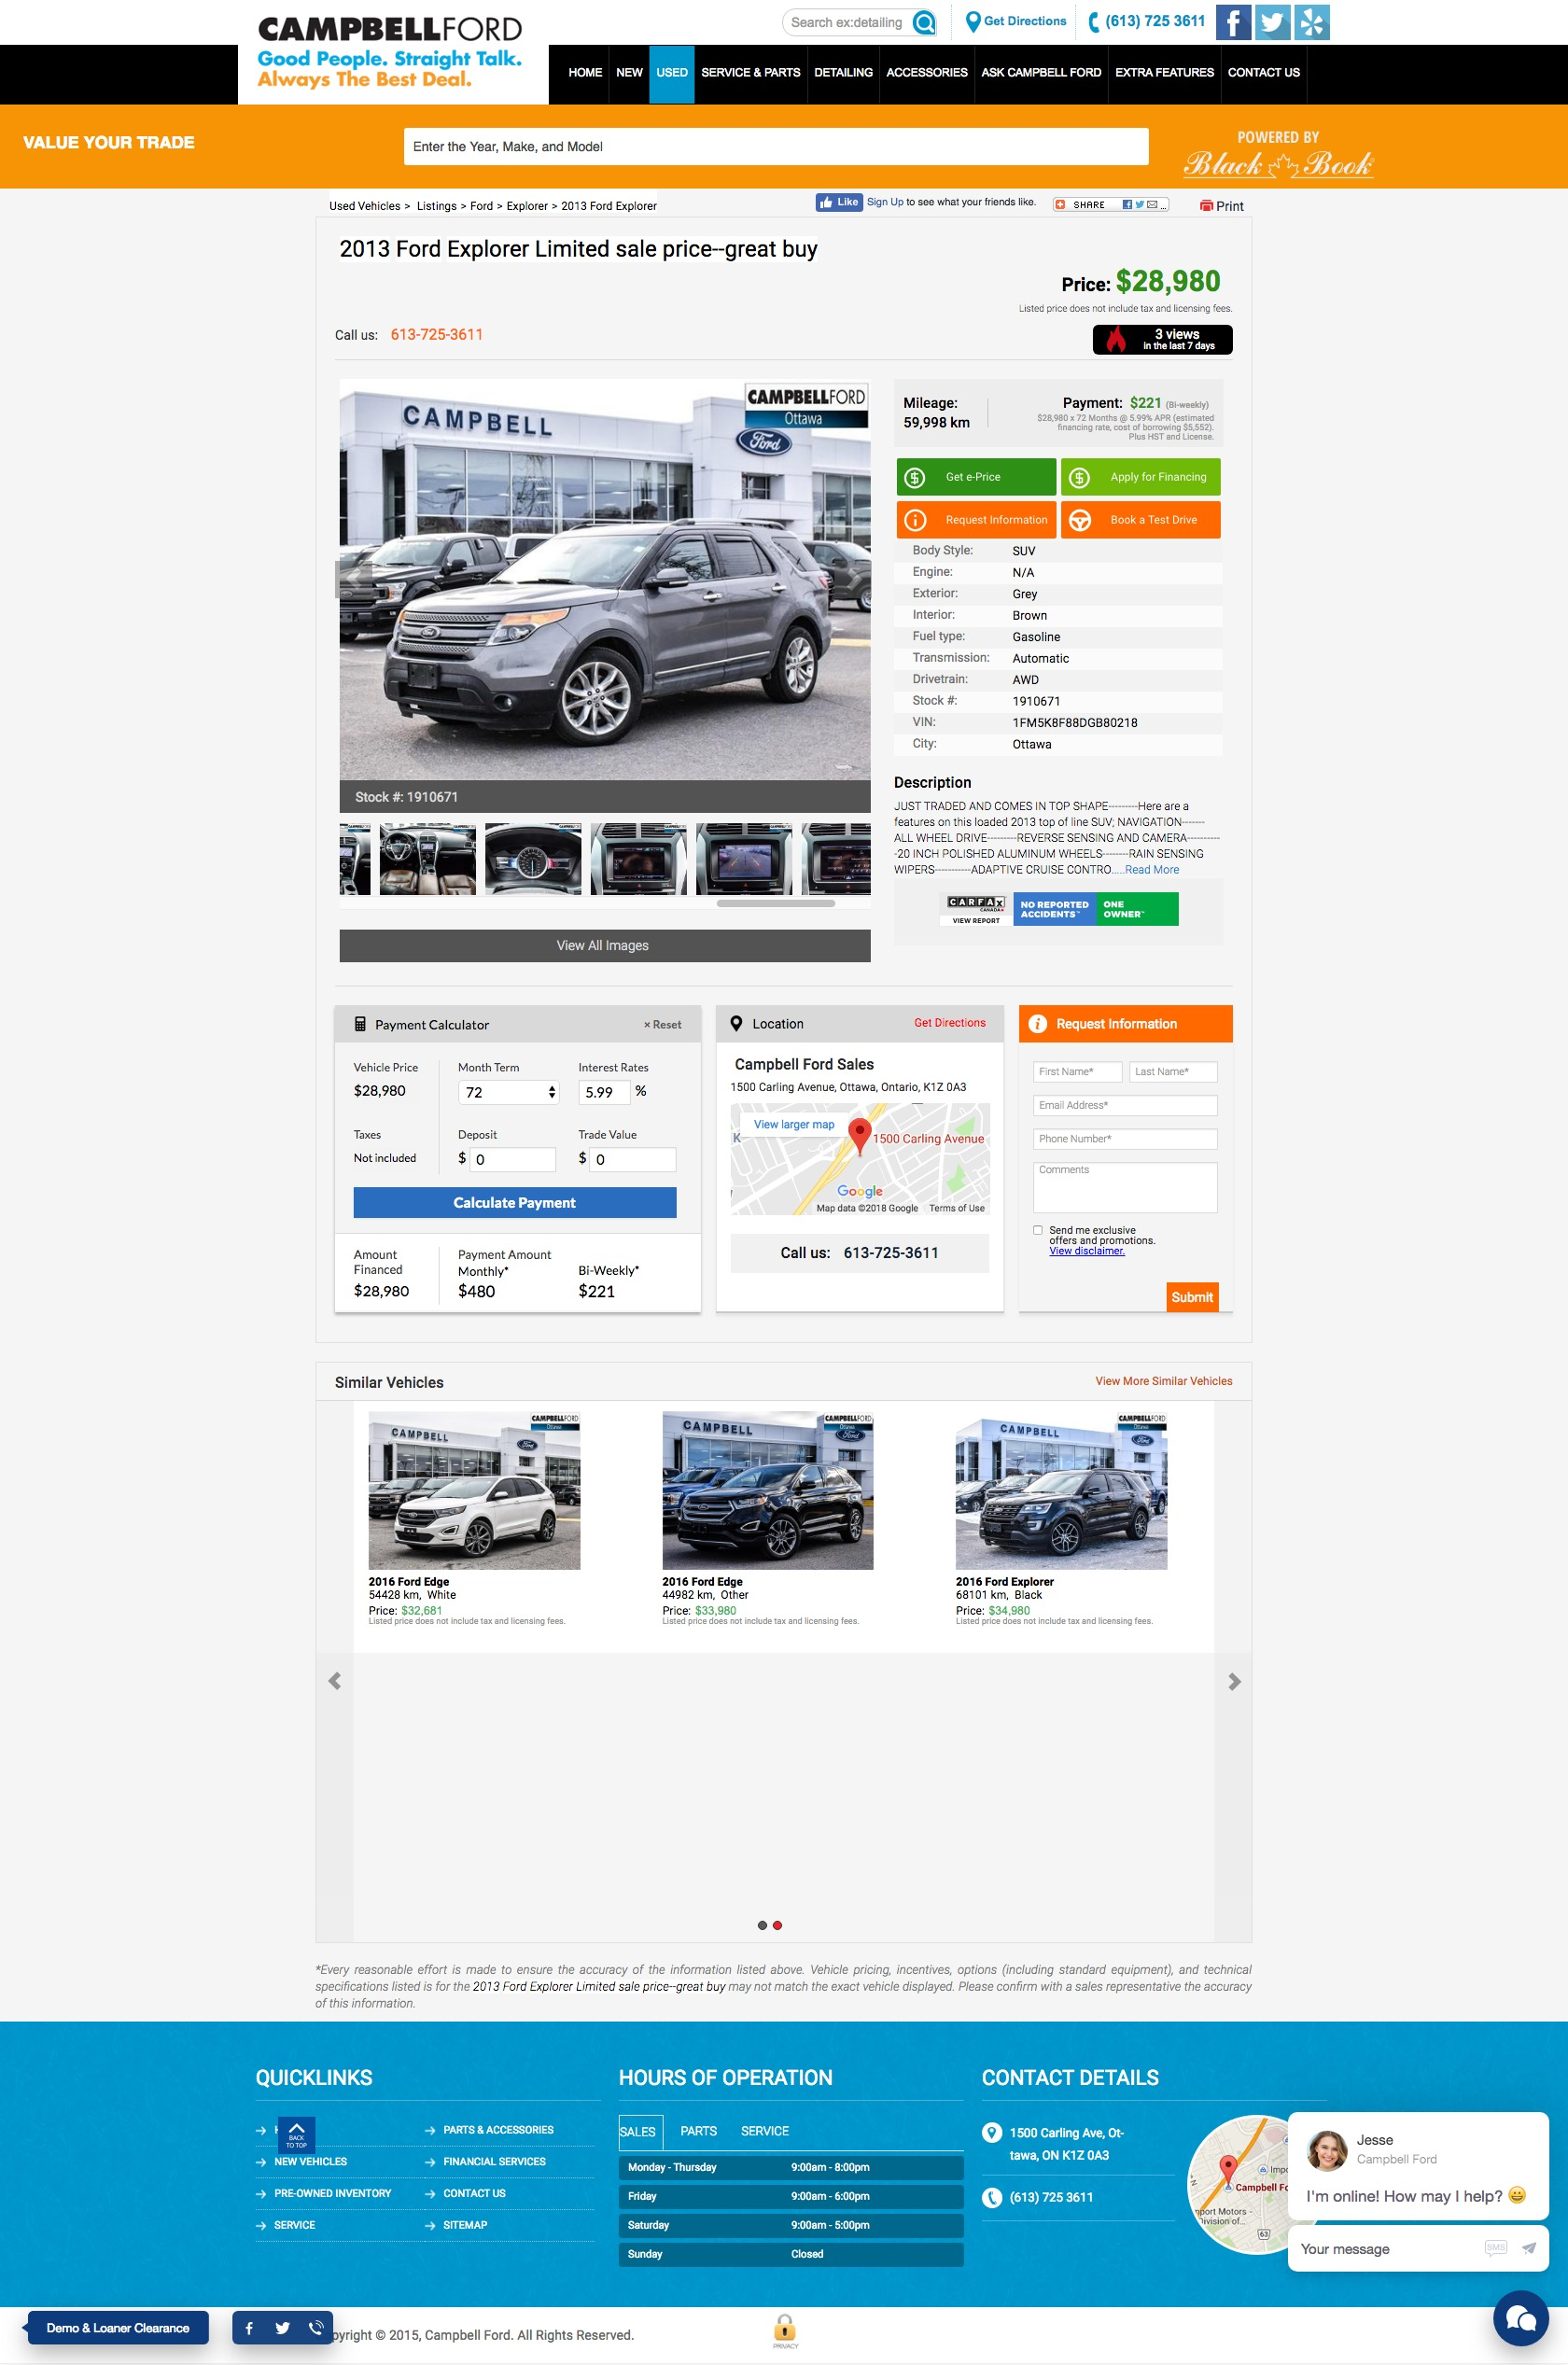car: (833, 560, 875, 602)
